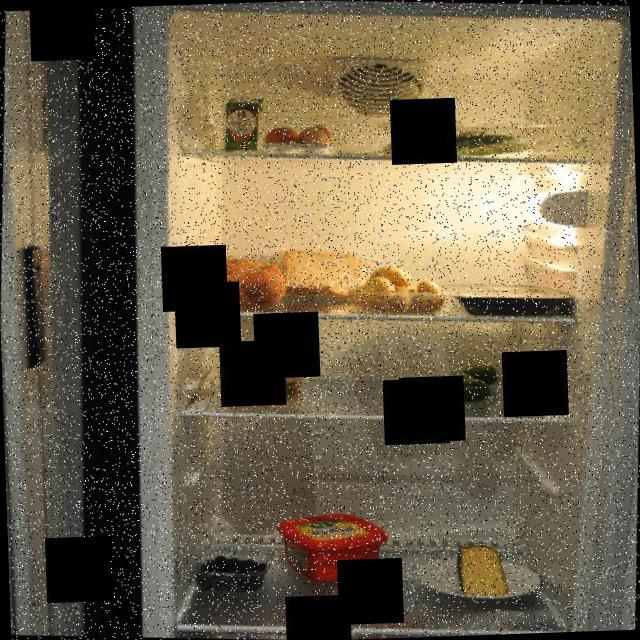Carne pollo: (441, 278, 574, 320)
Cebolla: (215, 336, 315, 414)
Huevos: (260, 118, 336, 156)
Mantequilla: (272, 506, 392, 590)
Patata: (346, 261, 449, 317)
Queso: (452, 542, 514, 598)
blueberries: (187, 540, 280, 598)
bread: (276, 242, 379, 304)
green_beans: (385, 122, 537, 164)
heavy_cream: (222, 90, 264, 155)
sweet_potato: (195, 252, 292, 311)
